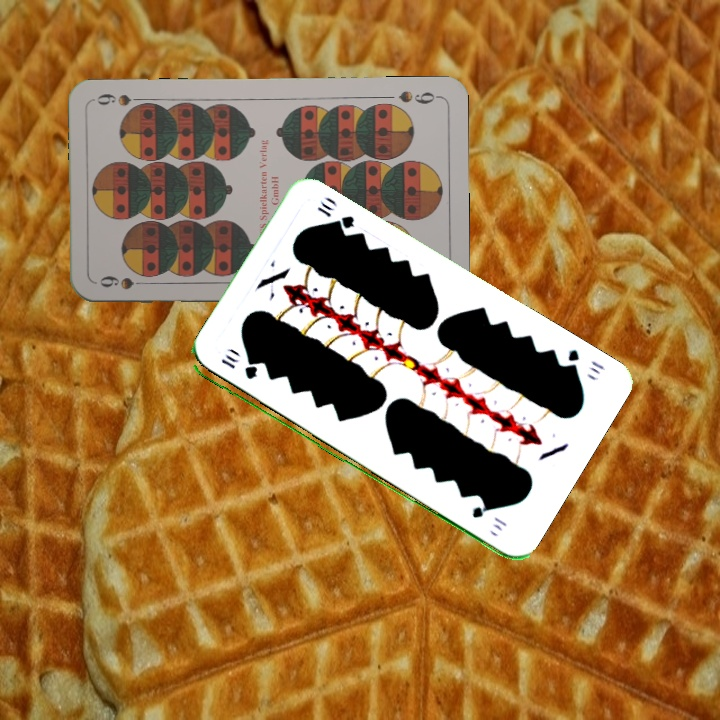G10: (560, 345, 607, 376), (217, 350, 259, 383)
S9: (95, 272, 153, 292), (395, 86, 442, 106)
